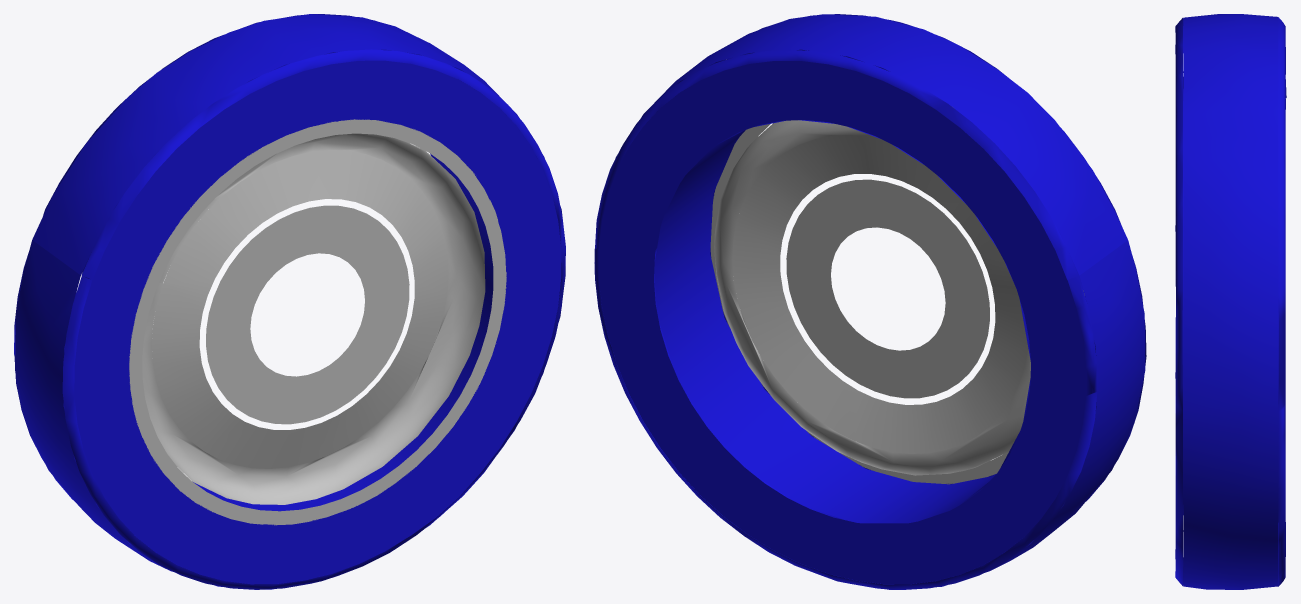
File: mir250-wheel-left.dae
The picture shows the model from 3 angles, left to right: view 1: azimuth 30°, elevation 25°; view 2: azimuth 150°, elevation 25°; view 3: azimuth 270°, elevation 25°; orthographic projection. The views are drawn at different scales.
Parts seen in each view (by area): view 1: diff-drive-right; view 2: diff-drive-right; view 3: diff-drive-right.
Boxes of the visible parts, <box> form: diff-drive-right: <box>14,14,565,589</box>; diff-drive-right: <box>594,14,1146,589</box>; diff-drive-right: <box>1175,14,1286,589</box>.
Size of the model in its own units: 0.2 by 0.0386 by 0.1998.
